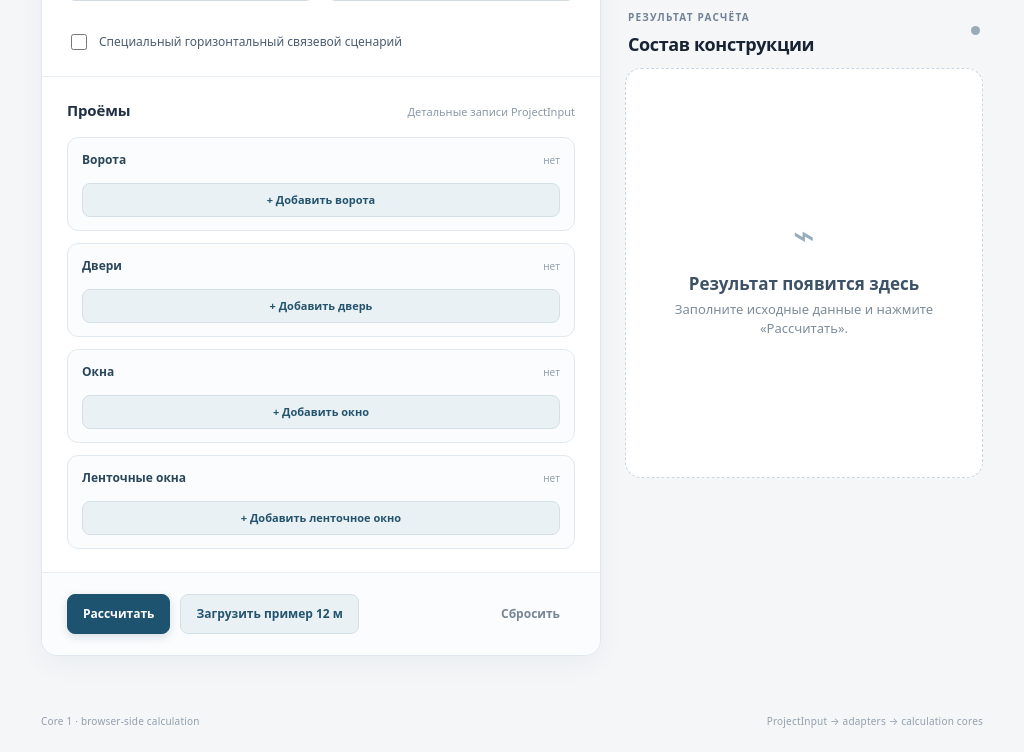
Test: Sprint M calculator UI › renders calculator and calculates the 12 m demo result
(page scrolled)
What coordinates should you click on to do the following:
click the button "Рассчитать"
I would click on:
 (119, 614)
Its box is [67,594,170,634].
(page scrolled)
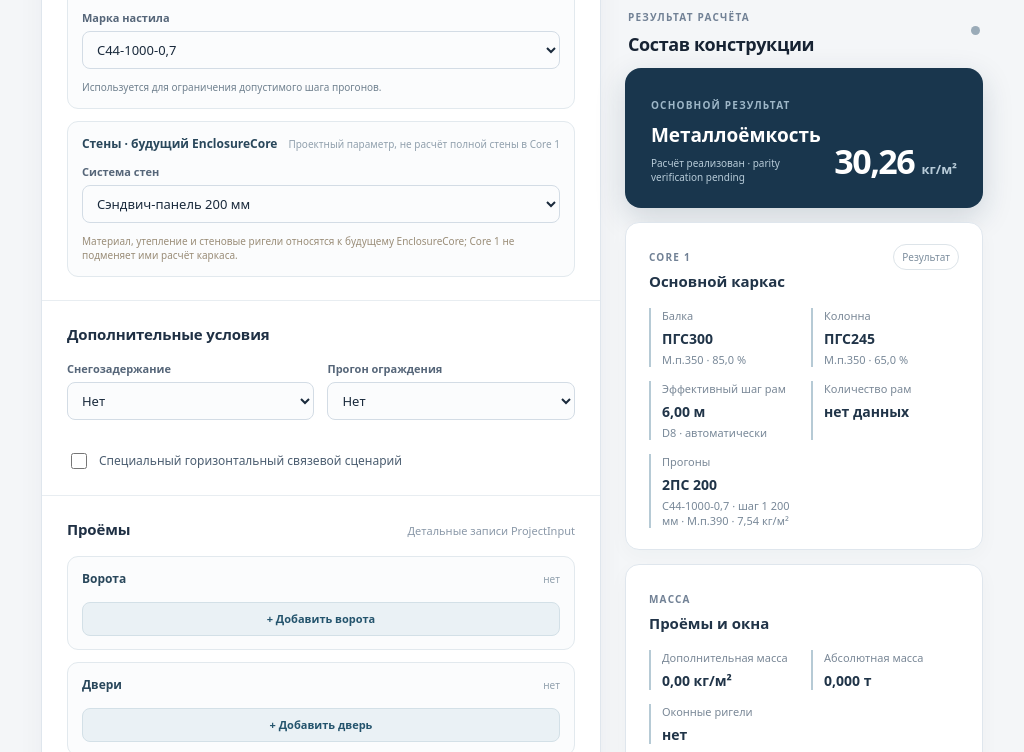
Result: the text "30,26 кг/м²" is shown at [834,138,957,184]
